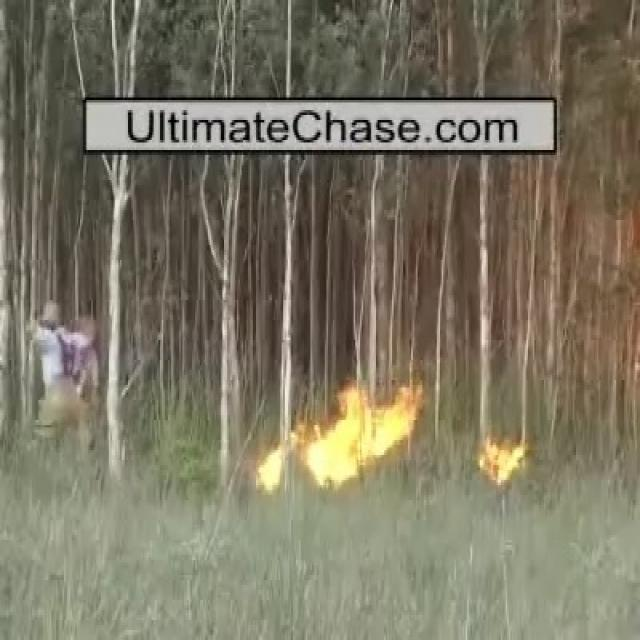fire: (254, 384, 422, 491), (480, 441, 529, 484)
